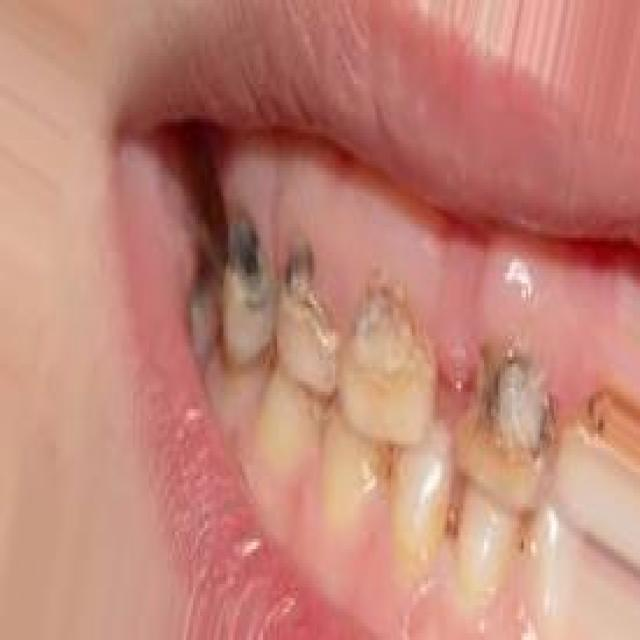caries: (451, 332, 557, 510), (338, 270, 440, 435), (213, 207, 276, 367), (276, 234, 338, 390)
